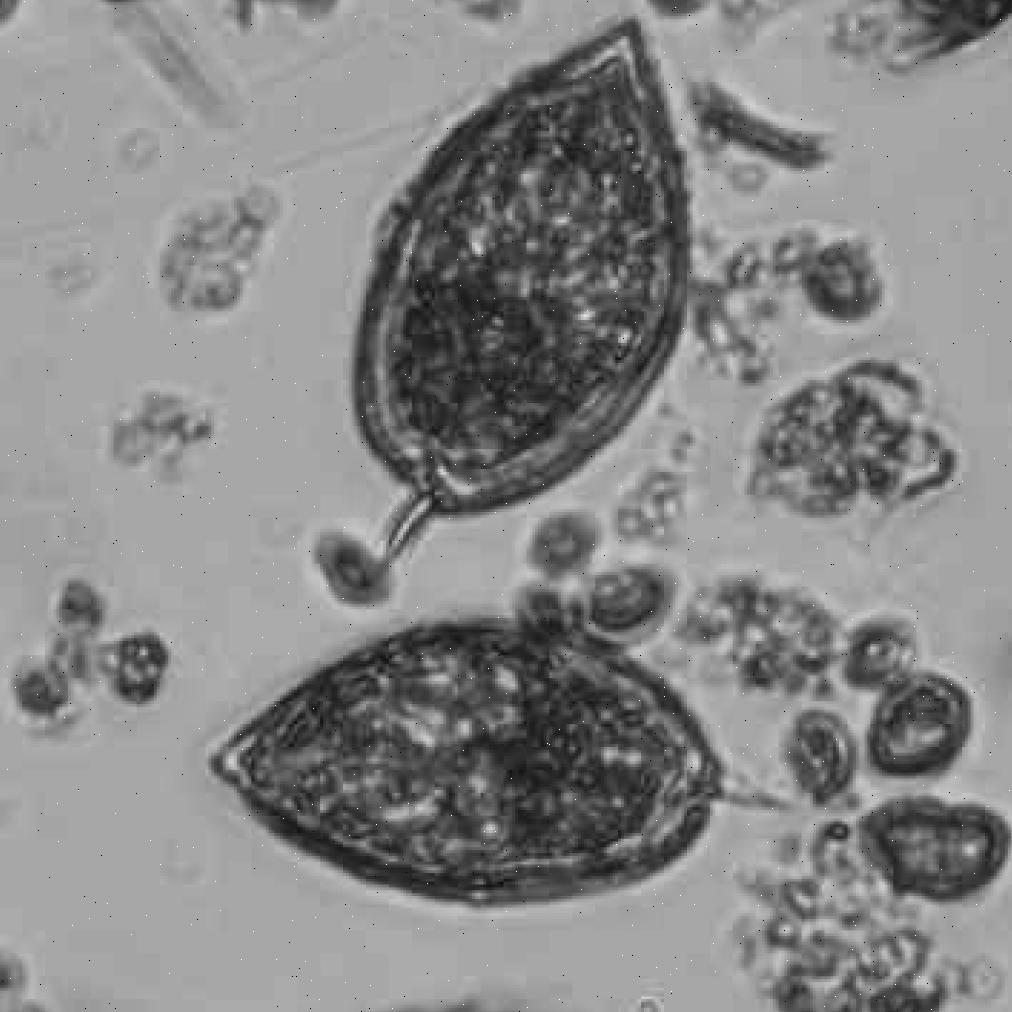prorocentrum_micans: (353, 22, 684, 564), (211, 617, 791, 905)
